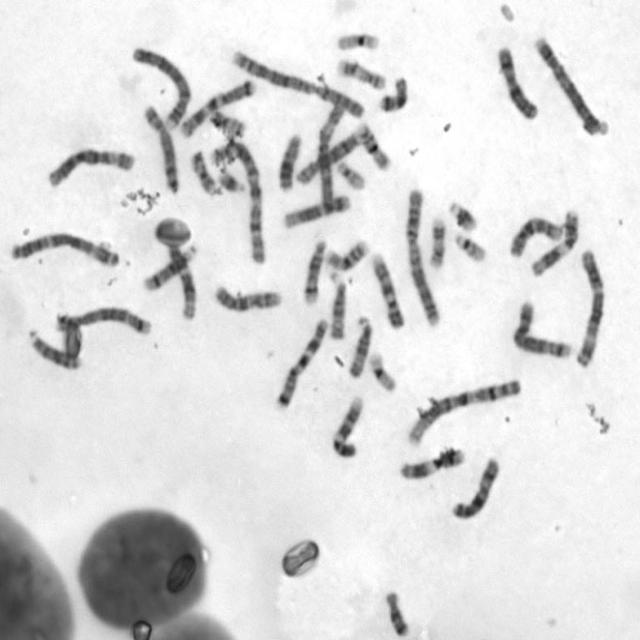A1: (403, 374, 524, 448), (210, 135, 268, 266)
A2: (227, 46, 366, 120), (402, 183, 442, 329)
A3: (6, 228, 121, 270), (572, 246, 607, 369)
B4: (530, 32, 610, 138), (128, 42, 193, 132)
B5: (508, 296, 574, 361), (52, 304, 154, 336)
C10: (506, 212, 563, 259), (210, 282, 284, 314)
C11: (526, 206, 580, 278), (395, 444, 465, 481)
C12: (164, 237, 198, 322), (279, 191, 353, 230)
C6: (44, 143, 136, 190), (316, 98, 347, 216)
C7: (271, 314, 330, 411), (178, 76, 257, 140)
C8: (292, 125, 365, 187), (140, 102, 180, 194)
C9: (368, 248, 407, 332), (329, 392, 365, 460)
D13: (25, 324, 82, 370), (274, 130, 303, 192)
D14: (140, 241, 200, 292), (300, 236, 328, 305)
D15: (345, 312, 373, 380), (326, 270, 348, 343)
E16: (354, 118, 392, 172), (320, 236, 370, 272)
E17: (334, 55, 387, 92), (426, 213, 448, 270)
E18: (381, 587, 411, 637), (375, 73, 409, 113)
F19: (366, 348, 398, 394), (333, 29, 381, 51)
F20: (187, 151, 222, 200), (208, 106, 246, 140)
G21: (446, 197, 480, 234), (215, 167, 247, 196)
G22: (452, 229, 488, 263), (334, 156, 367, 192)
X: (448, 453, 502, 522), (494, 42, 539, 121)
